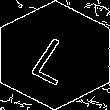L_NE: (25, 26, 85, 84)
